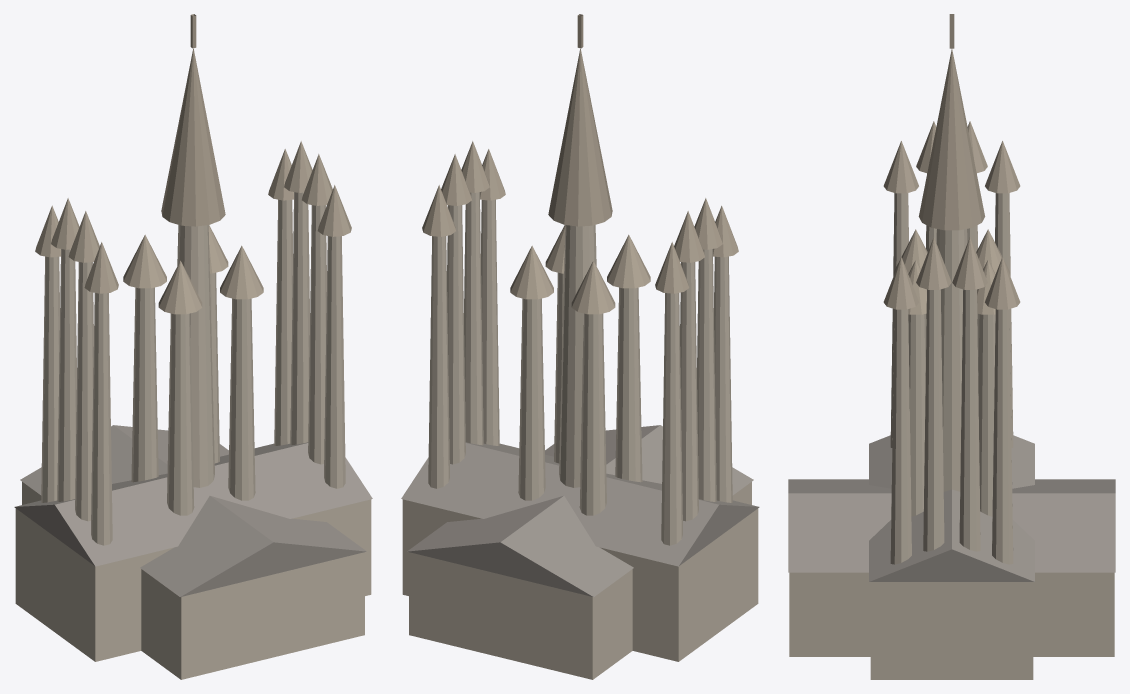
Rendered from sagradafamilia.glb.
3 renders of one model, left to right at view 1: azimuth 30°, elevation 25°; view 2: azimuth 150°, elevation 25°; view 3: azimuth 270°, elevation 25°, orthographic. The views are drawn at different scales.
Size of the model in its own units: 90.5 by 182 by 90.5.
